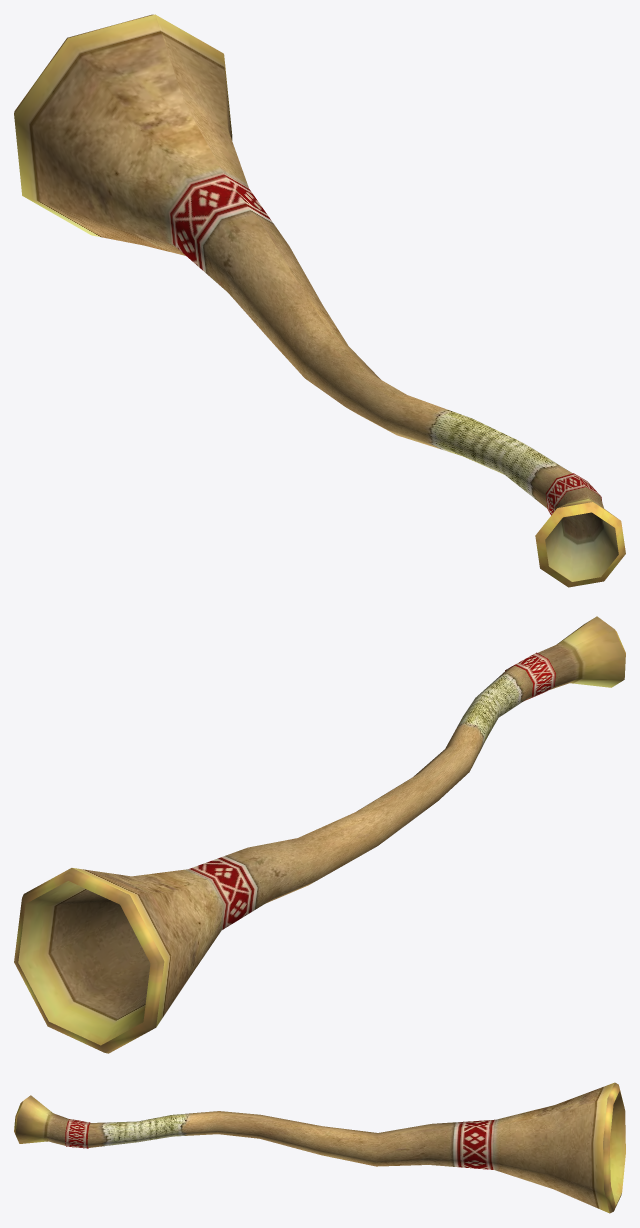
Rendered from wand_s_vuvuzela_vuvuzela1.glb.
3 views of the same model, one above another, from view 1: azimuth 30°, elevation 25°; view 2: azimuth 150°, elevation 25°; view 3: azimuth 270°, elevation 25° (orthographic). The views are drawn at different scales.
Bounding box in the file's own units: 0.1846 × 0.1625 × 0.7924.
1 material, 1 textured.
